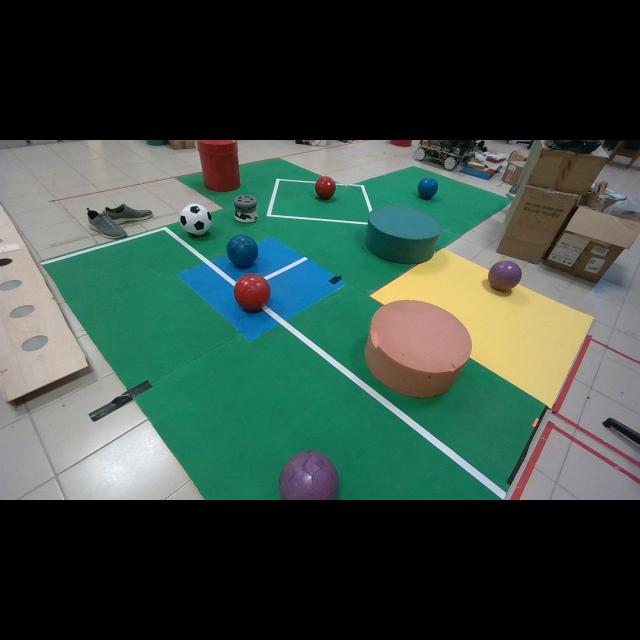B: (228, 235, 259, 268), (418, 178, 438, 199)
P: (280, 450, 339, 500), (488, 260, 521, 292)
R: (234, 274, 271, 311), (315, 176, 336, 199)
